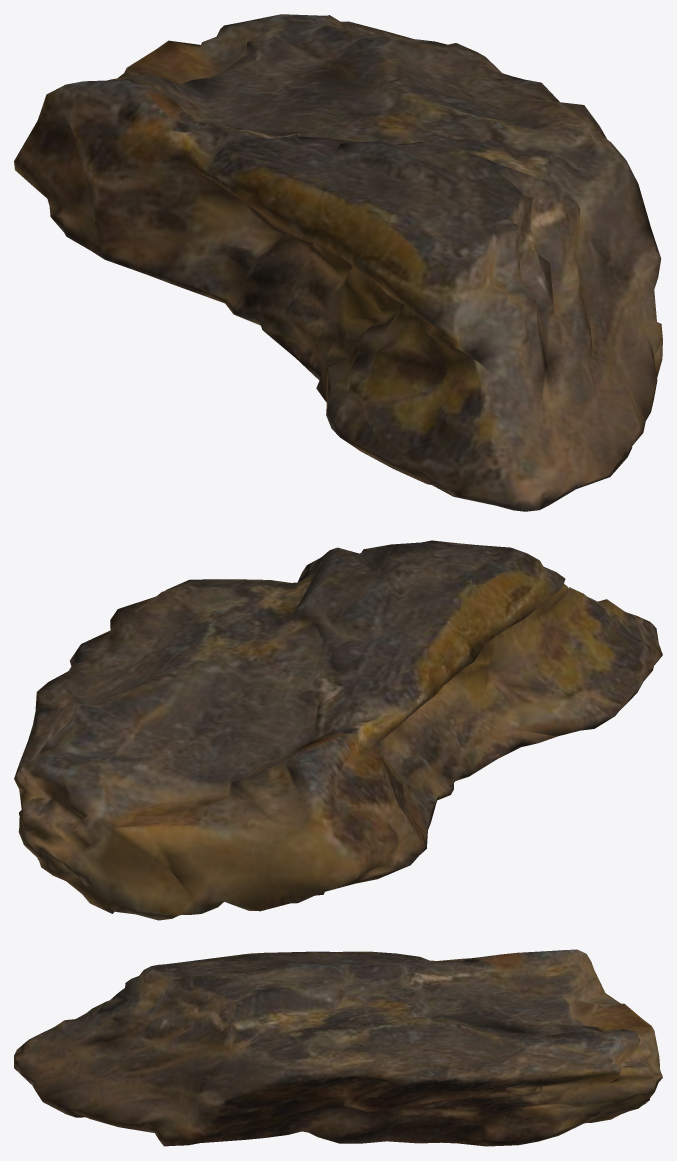
File: rock_09.glb
3 views of the same model, one above another, from view 1: azimuth 30°, elevation 25°; view 2: azimuth 150°, elevation 25°; view 3: azimuth 270°, elevation 25° (orthographic). The views are drawn at different scales.
Parts seen in each view (by area): view 1: rock_09_LOD0; view 2: rock_09_LOD0; view 3: rock_09_LOD0.
Boxes of the visible parts, bbox=[...] form: rock_09_LOD0: bbox=[14, 14, 662, 511]; rock_09_LOD0: bbox=[14, 540, 662, 920]; rock_09_LOD0: bbox=[14, 949, 662, 1146].
Size of the model in its own units: 0.0739 by 0.0326 by 0.1446.
Materials: 1 (1 with a texture image).
